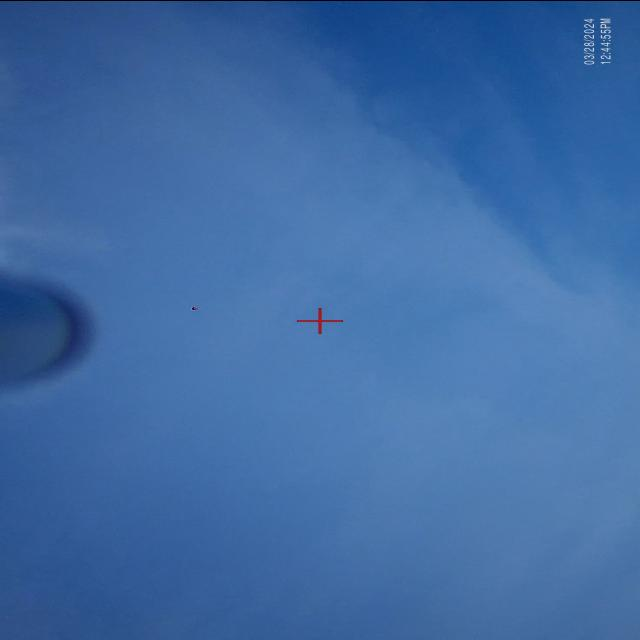entire: (182, 304, 206, 316)
